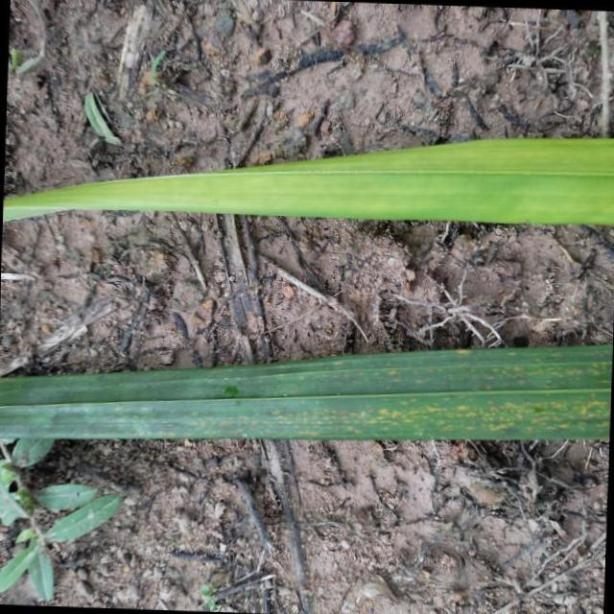nitrogen: (0, 336, 614, 441), (0, 133, 614, 228)
